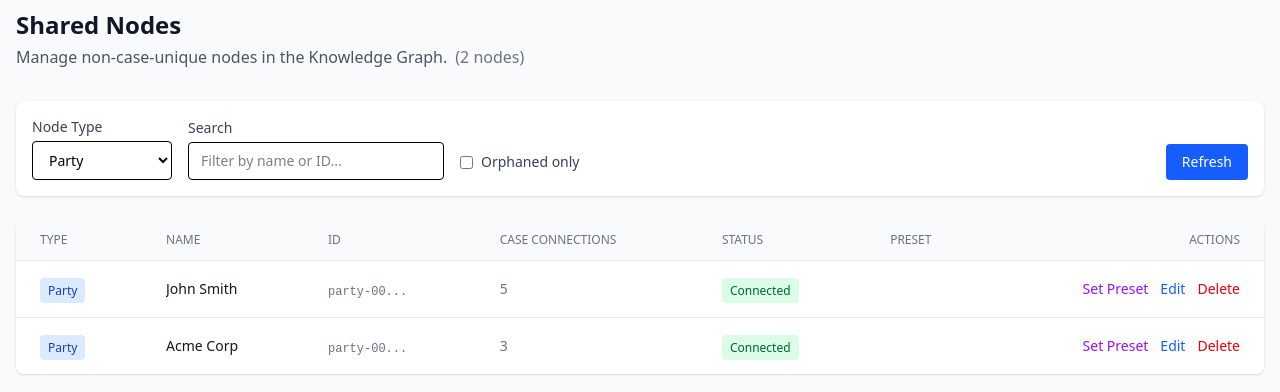
Test: SharedNodesPage › Filtering › shows empty state when search has no results
The width and height of the screenshot is (1280, 392).
Check: the text "John Smith" is shown, box [166,279,237,298]
Step 1. Type "nonexistent" into the field with placeholder "Filter by name or ID..." → {"x": 316, "y": 160}, box [188,142,444,180]
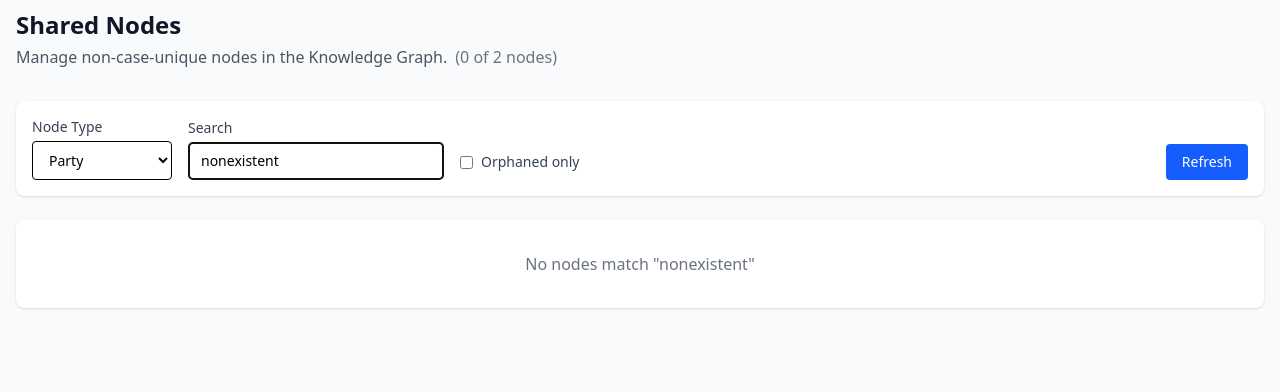
Check: the text "No nodes match \"nonexistent\"" is shown, box [16,220,1264,308]
